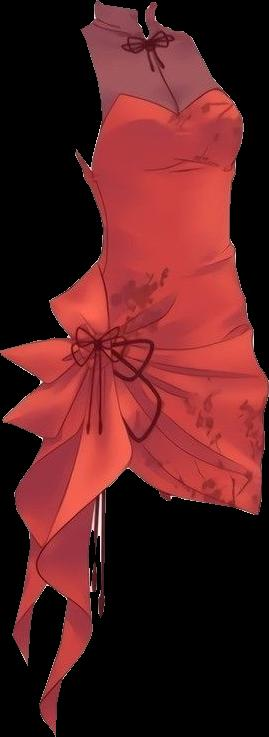Bodice: (75, 0, 243, 231)
Hemline: (36, 460, 132, 731), (122, 460, 260, 518)
Neckline: (99, 84, 219, 123), (91, 0, 157, 42)
Skirt: (0, 232, 268, 734)
Waistline: (93, 258, 132, 464)
